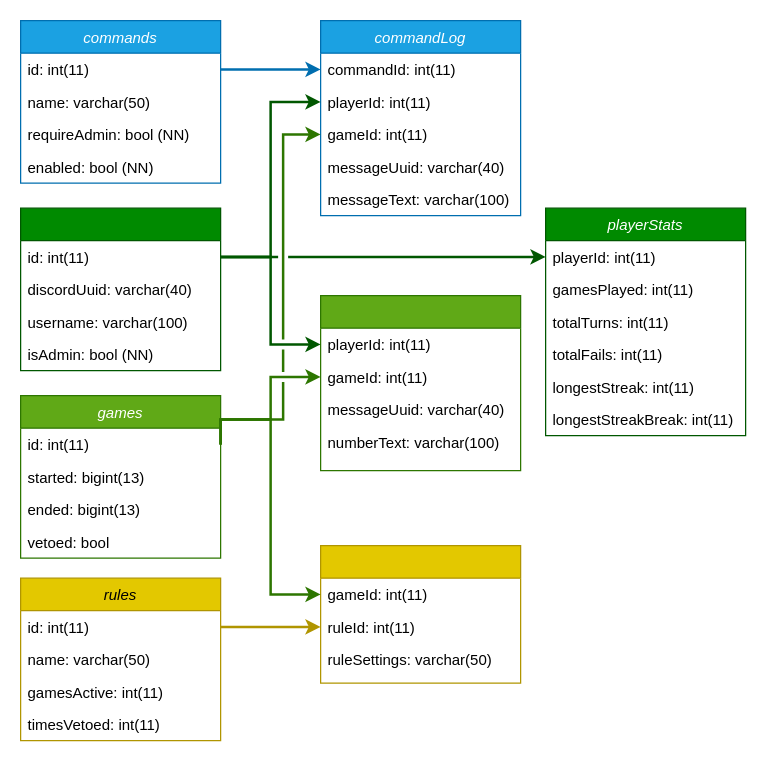
This 766x761 diagram has some shape labels left out. Here are the shapes that lost their labels. From the top down, the box of each, then its label:
(19, 207, 221, 371): players
(319, 294, 521, 471): turns
(319, 544, 521, 683): gameRules
